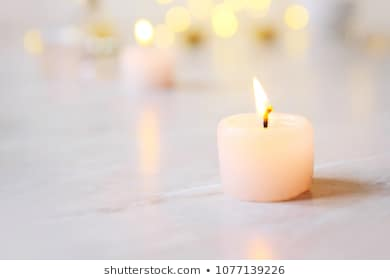Fire: (248, 76, 275, 120)
